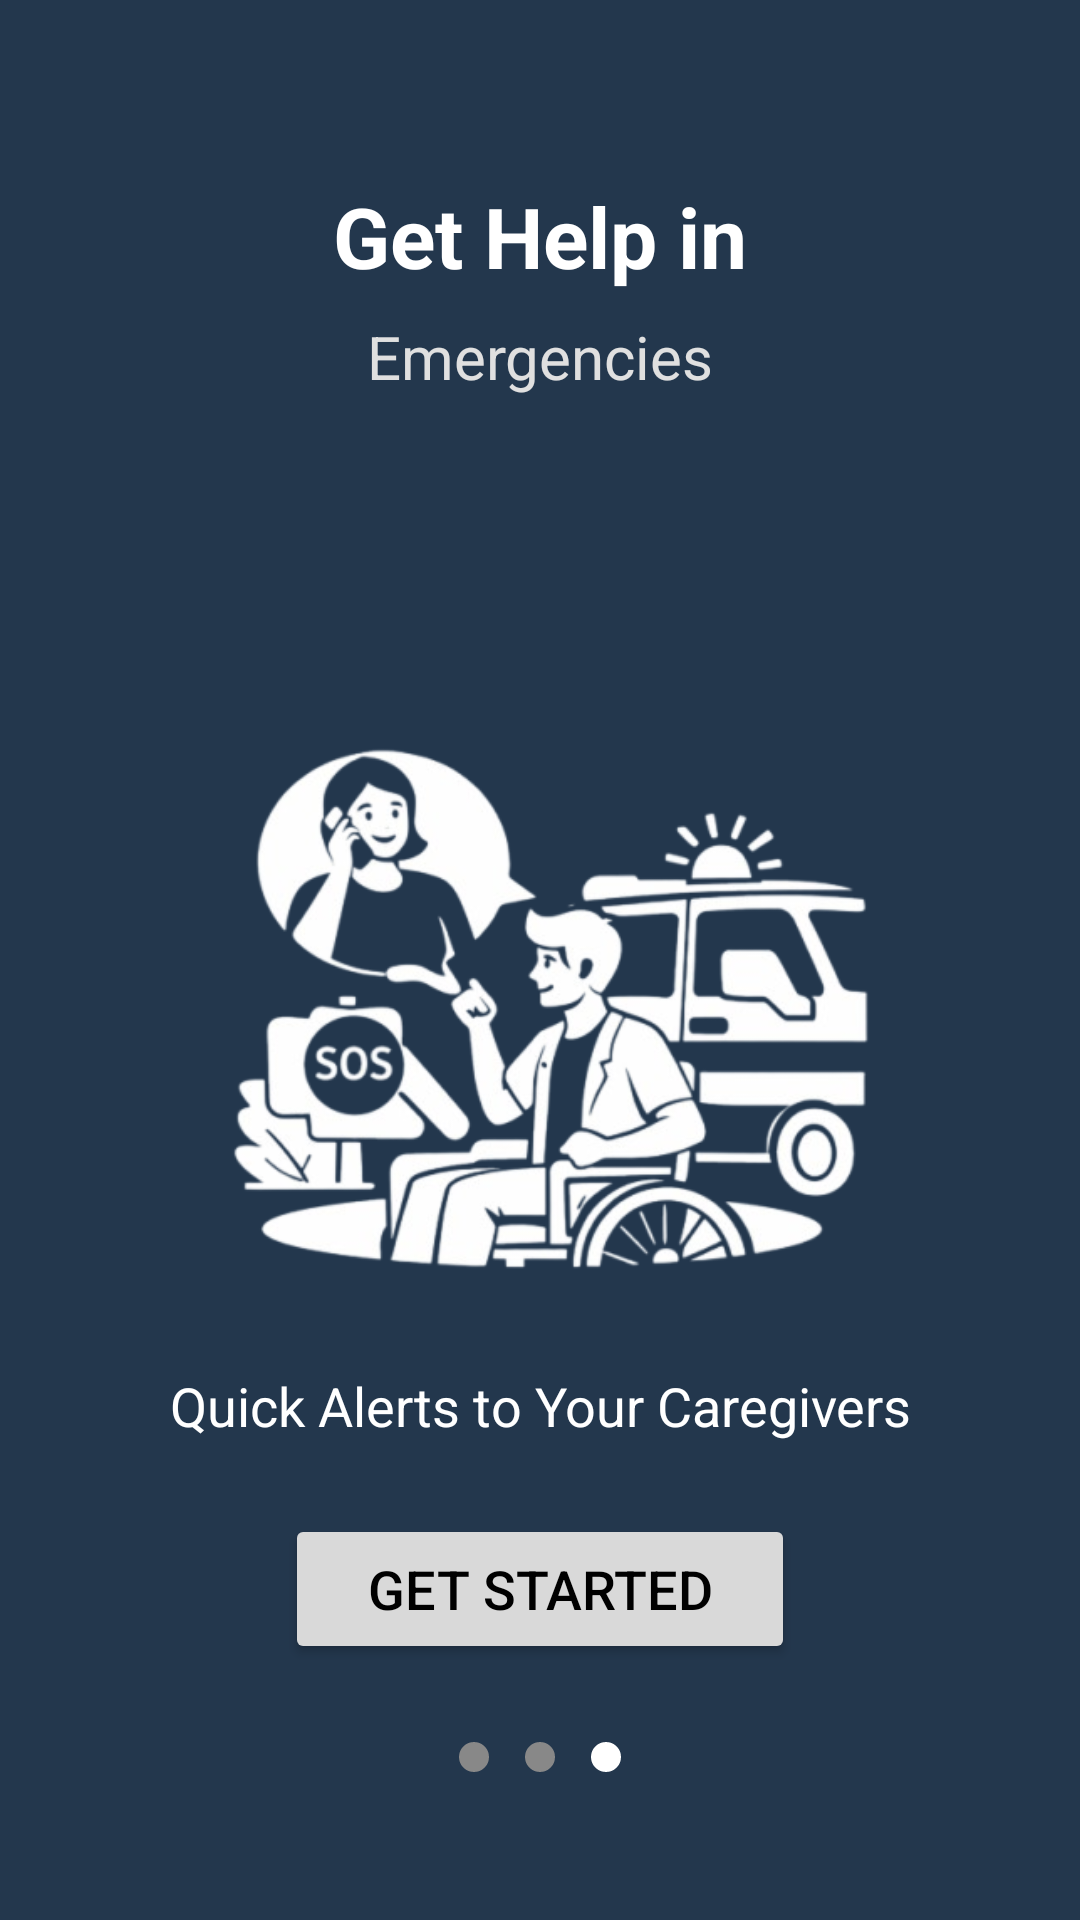

Where to tap for icons on this 1080 x 1920 app screen, as [x,y]:
dot: [474,1757], [540,1757], [606,1757]
